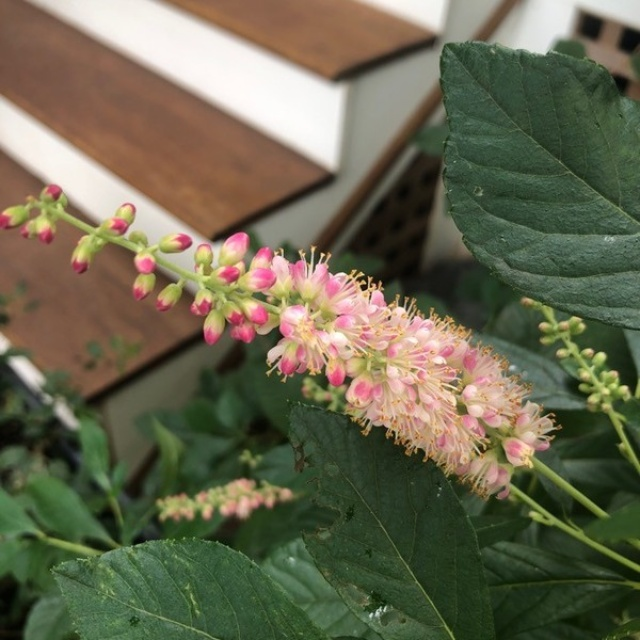obstacle: (0, 169, 556, 495), (420, 4, 623, 340)
